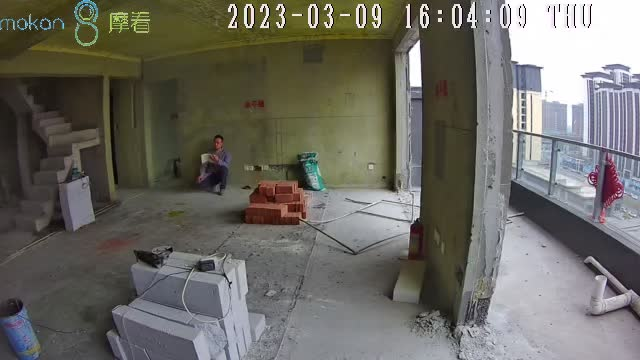people: (198, 133, 232, 195)
window: (509, 37, 640, 241)
